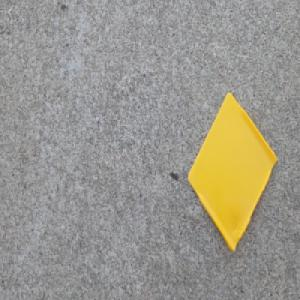PlasticPart: (187, 91, 278, 254)
